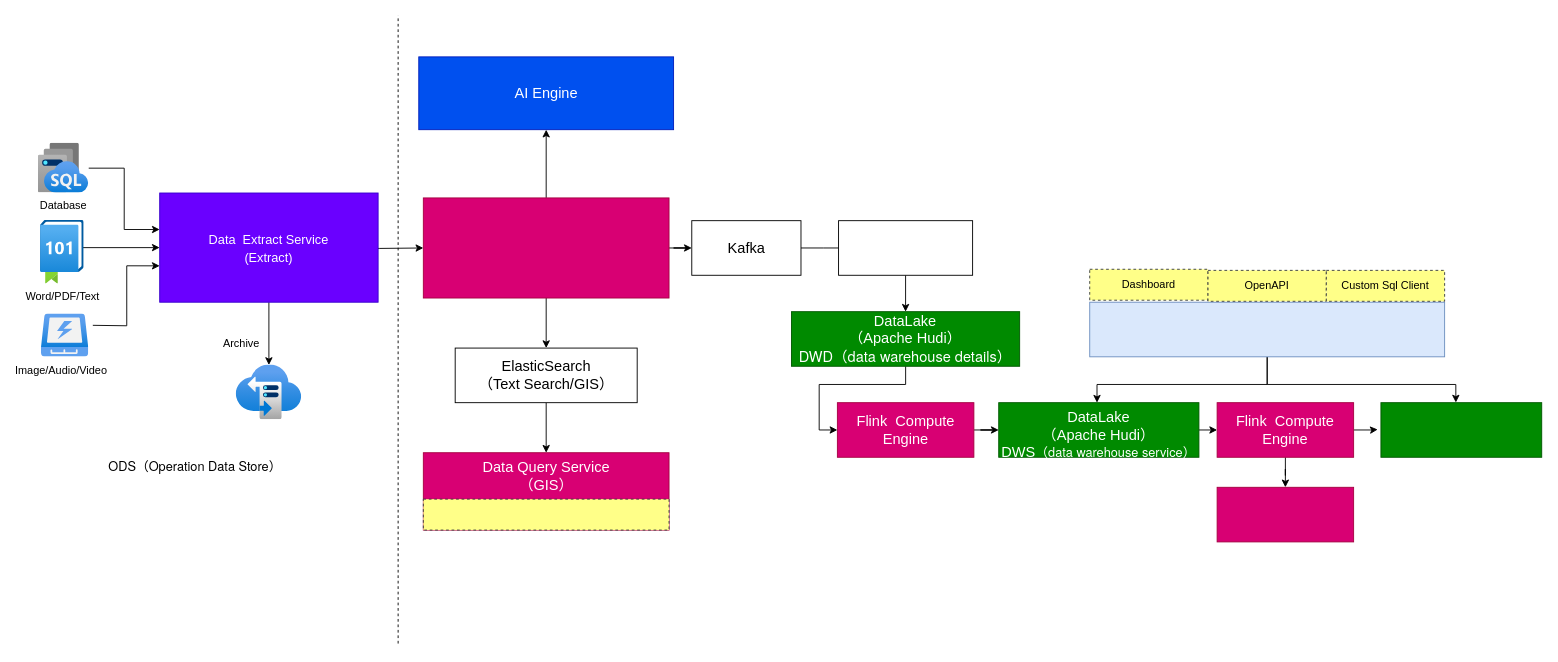
The diagram is 1558 pixels wide and 662 high, and some of its shapes have lost their labels. The centre of each missing label's shape, as x and y in pixels:
Alert Service: the point at 1285,514
Data transform Engine （ETL）: the point at 545,247
DataLake （Apache Hudi） ADS: the point at 1461,429
Distributed Storage Service: the point at 268,392
GIS Dashboard: the point at 545,514
Hudi Delta Stream: the point at 905,247
Sql Query Engine（Apache kyuubi）: the point at 1267,329
